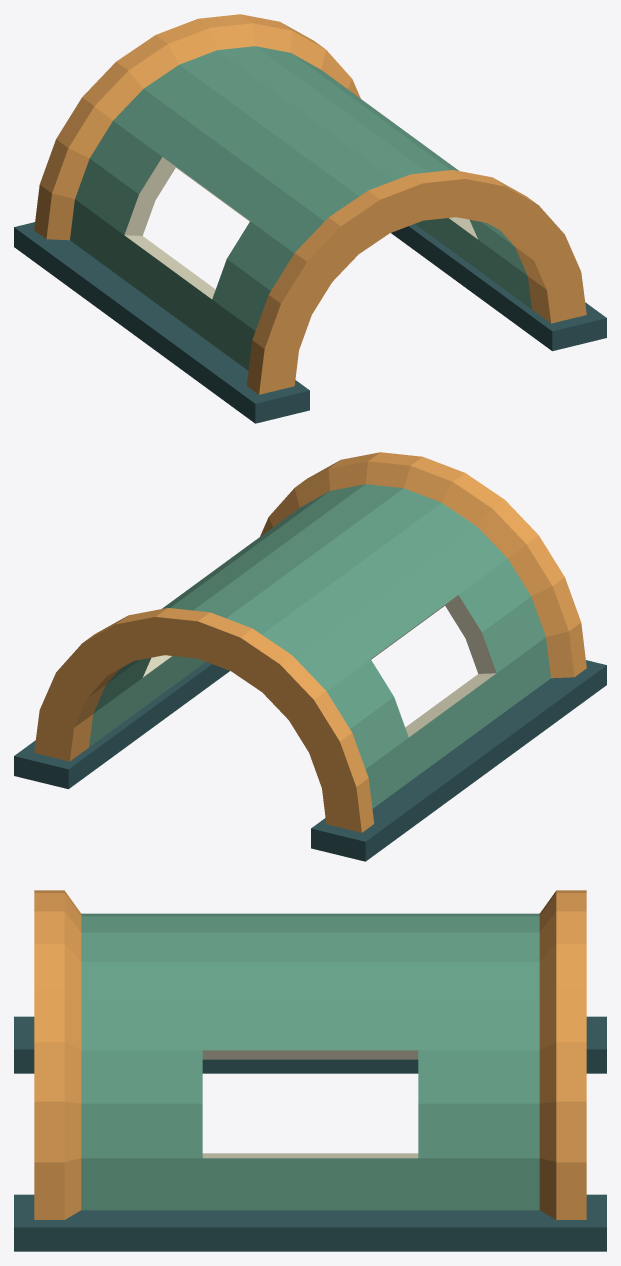
3 views of the same model, one above another, from view 1: azimuth 30°, elevation 25°; view 2: azimuth 150°, elevation 25°; view 3: azimuth 270°, elevation 25° (orthographic). The views are drawn at different scales.
Parts seen in each view (by area): view 1: ContinuousWindowedArchShell, LeftGroundRunner, RightGroundRunner; view 2: ContinuousWindowedArchShell, LeftGroundRunner, RightGroundRunner; view 3: ContinuousWindowedArchShell, RightGroundRunner, LeftGroundRunner.
Boxes of the visible parts, left/top/right/bottom form: ContinuousWindowedArchShell: left=34, top=14, right=586, bottom=394; LeftGroundRunner: left=14, top=222, right=309, bottom=423; RightGroundRunner: left=391, top=224, right=606, bottom=351; ContinuousWindowedArchShell: left=34, top=452, right=586, bottom=832; LeftGroundRunner: left=311, top=660, right=606, bottom=861; RightGroundRunner: left=14, top=662, right=229, bottom=789; ContinuousWindowedArchShell: left=34, top=890, right=586, bottom=1219; RightGroundRunner: left=14, top=1194, right=606, bottom=1251; LeftGroundRunner: left=14, top=1016, right=606, bottom=1073.
Bounding box in the file's own units: 1.48 × 0.77 × 1.76.
